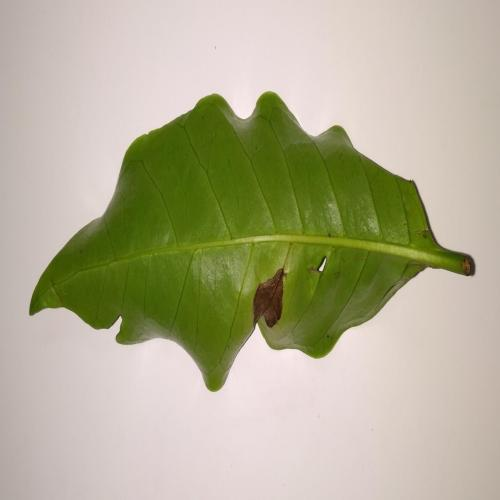miner: (253, 268, 284, 328)
